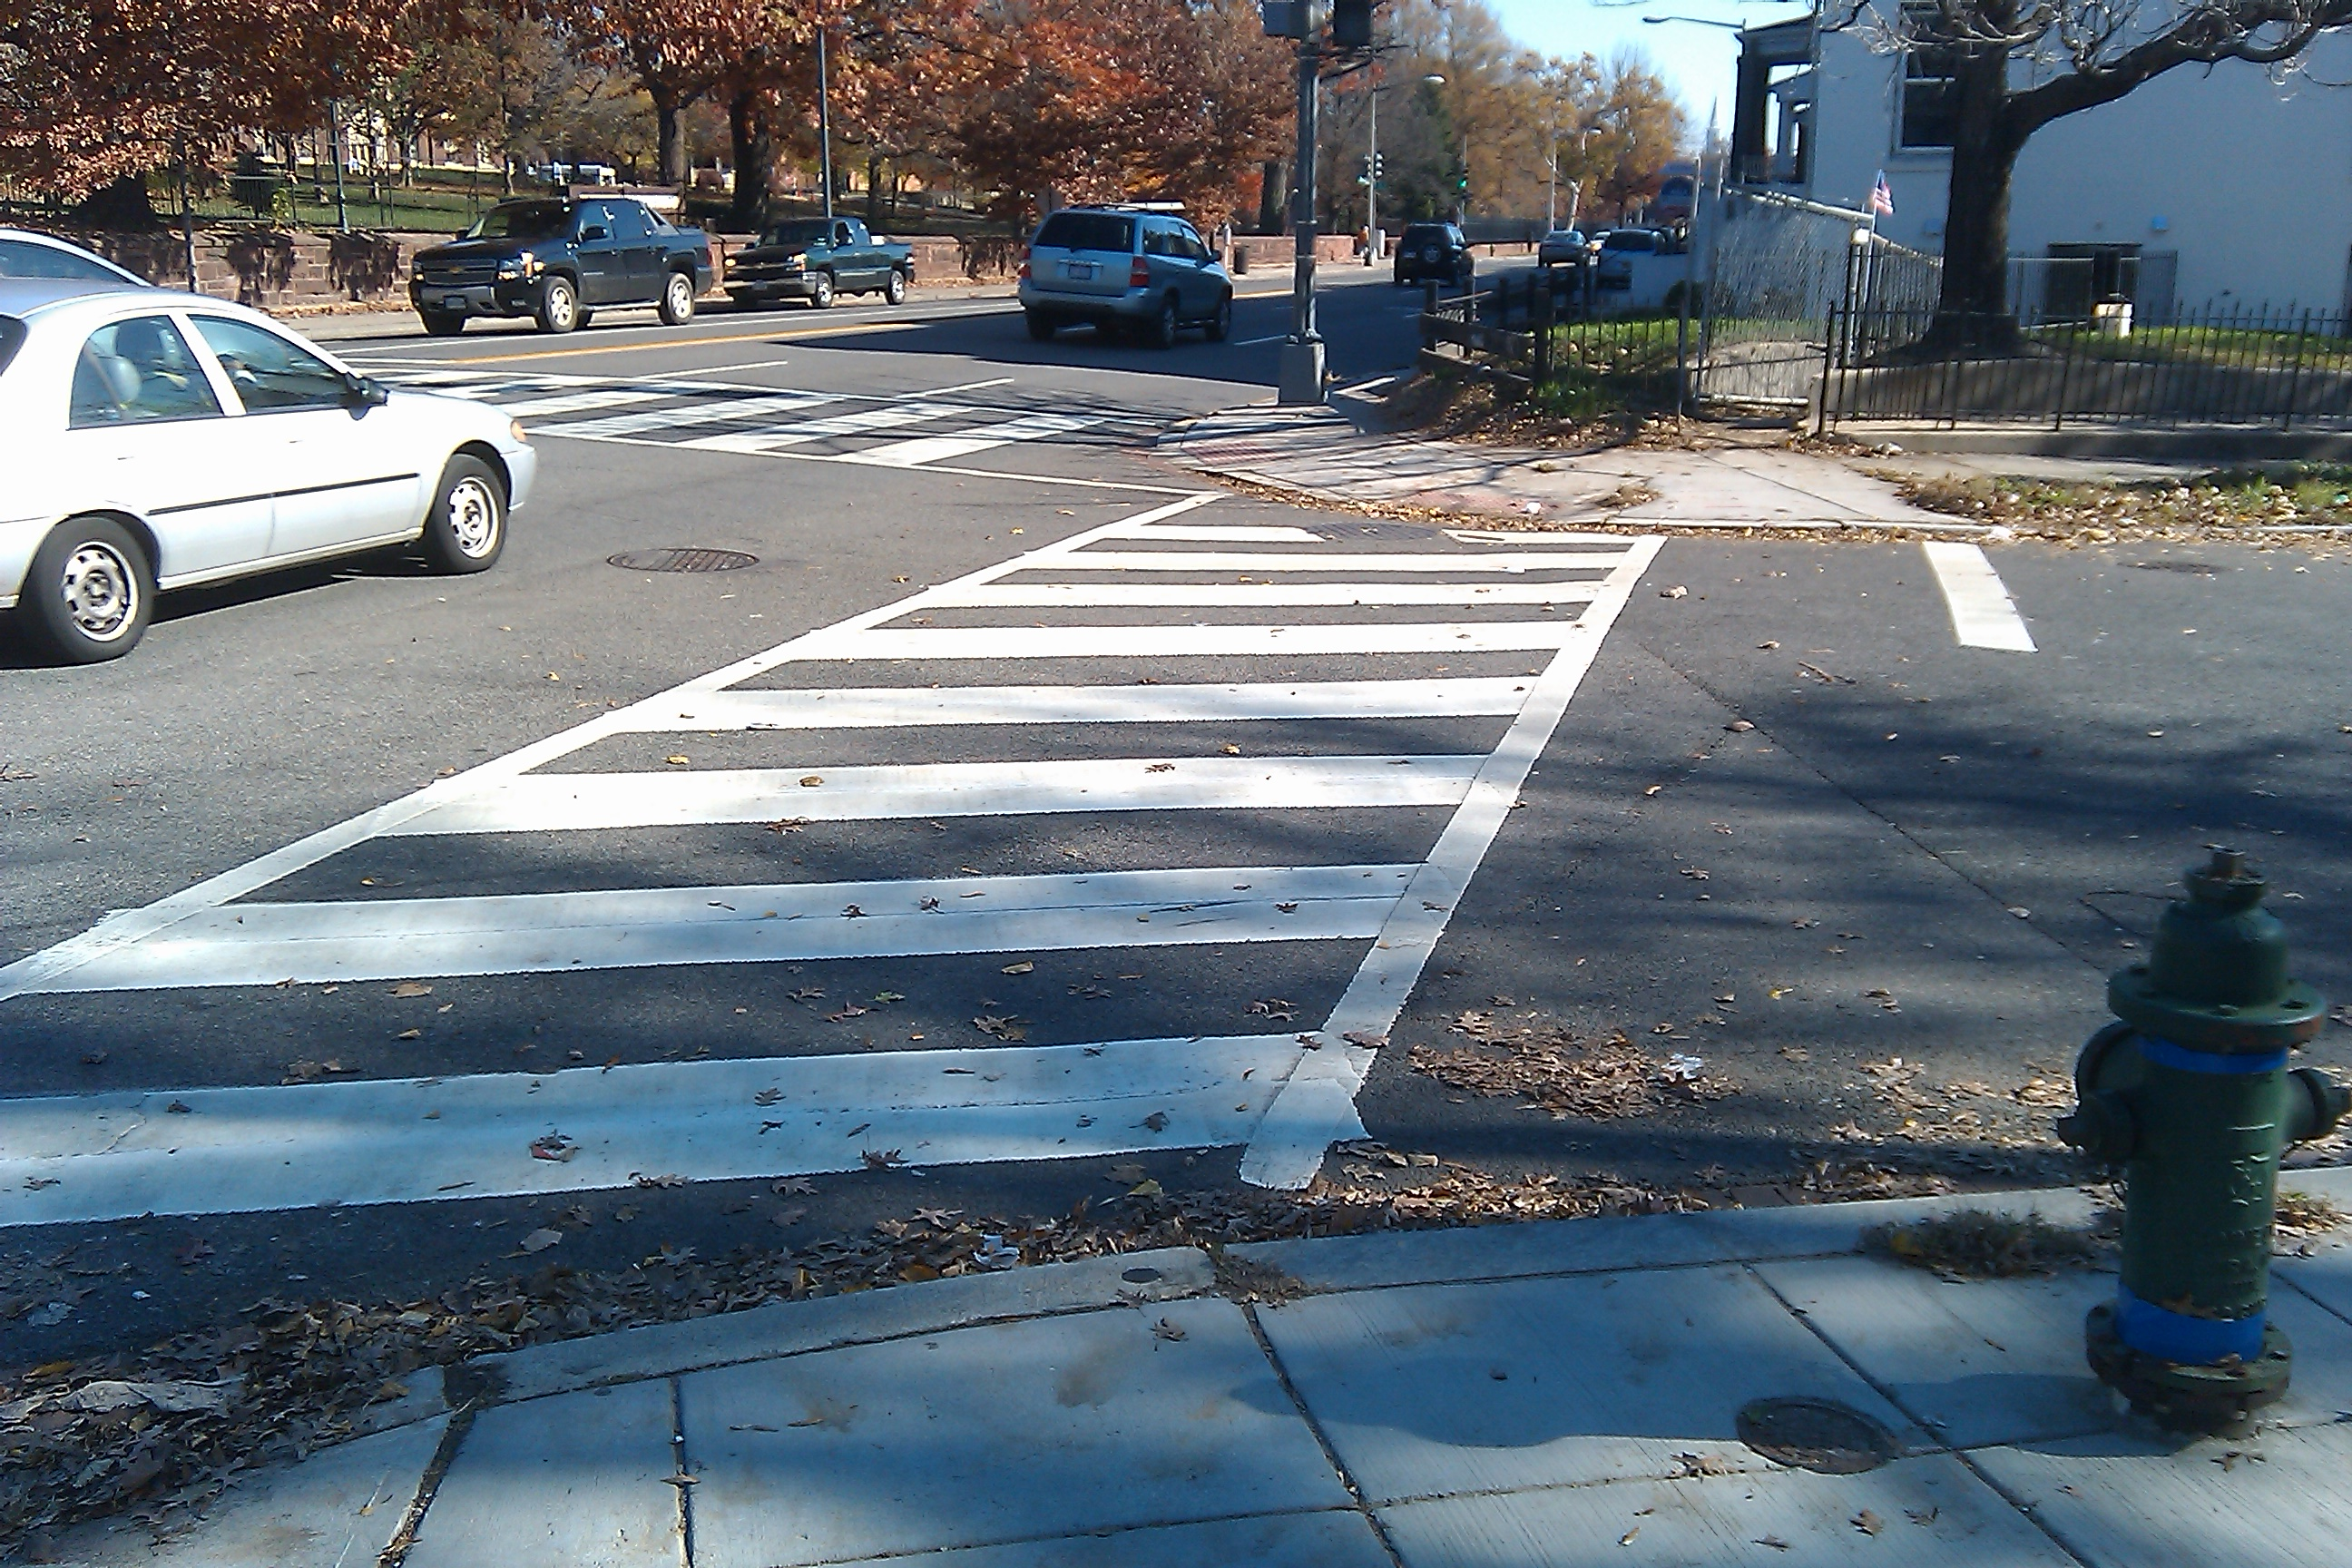firehdyrant: (2056, 843, 2352, 1460)
zebracross: (150, 607, 1605, 1215), (488, 364, 1192, 483)
